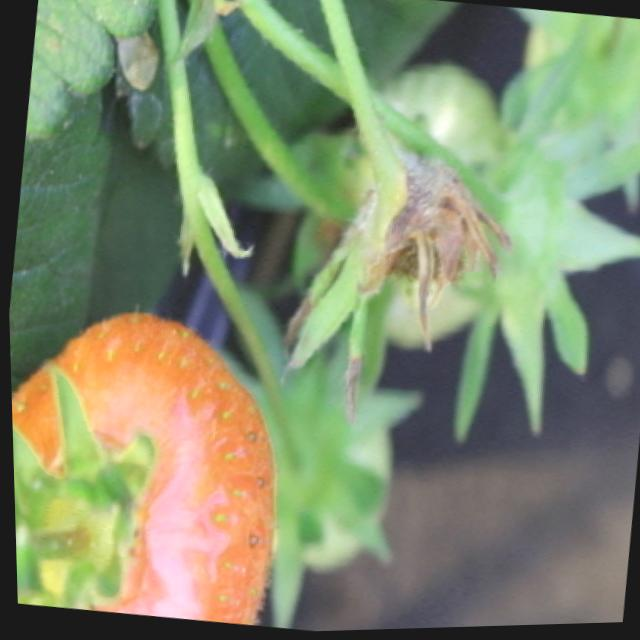Gray Mold: (340, 157, 514, 350)
